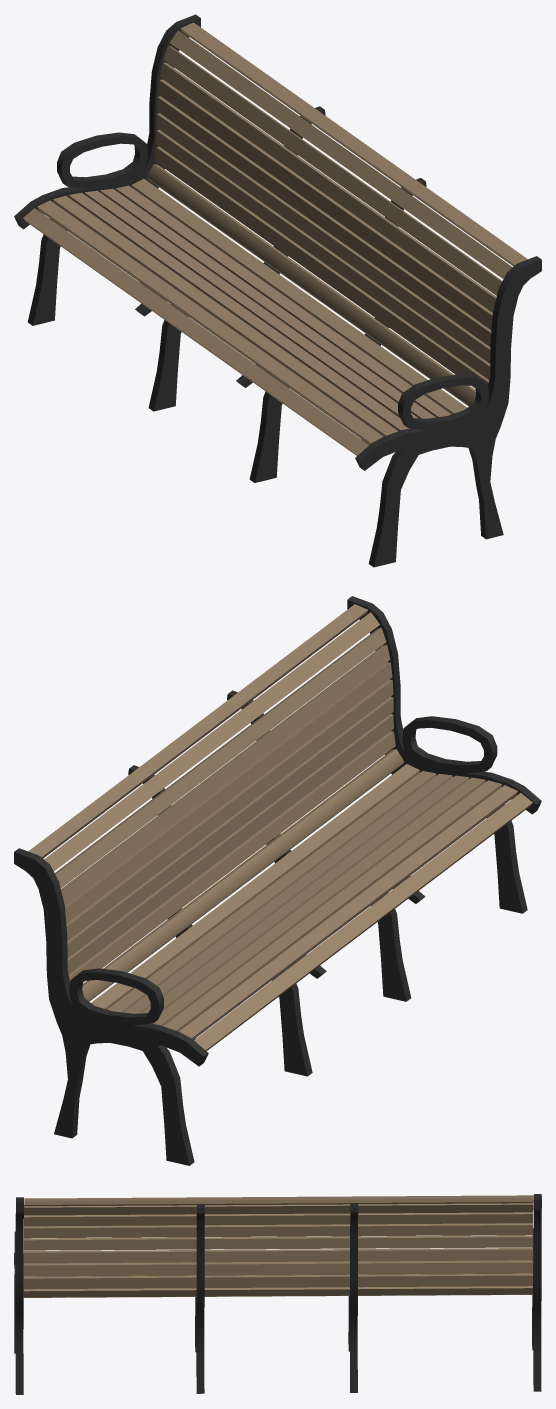
Rendered from Bench.fbx.
3 views of the same model, one above another, from view 1: azimuth 30°, elevation 25°; view 2: azimuth 150°, elevation 25°; view 3: azimuth 270°, elevation 25° (orthographic). The views are drawn at different scales.
Parts seen in each view (by area): view 1: bench.010; view 2: bench.010; view 3: bench.010.
Boxes of the visible parts, x1,y1,x2,y2 form: bench.010: [14, 14, 541, 567]; bench.010: [14, 596, 541, 1165]; bench.010: [14, 1194, 541, 1394].
Bounding box in the file's own units: 67.32 × 88.73 × 205.
